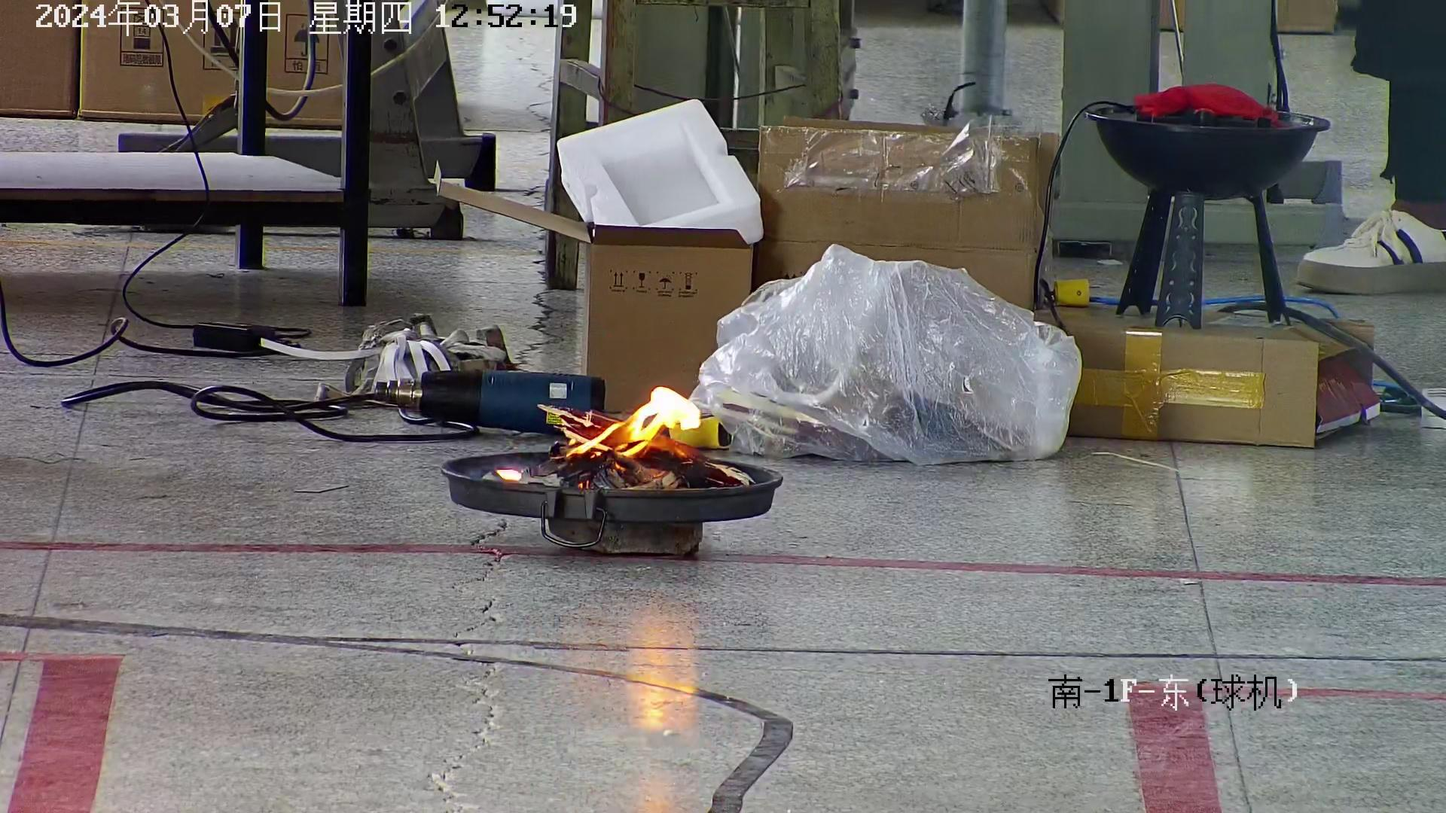fire: (539, 386, 702, 461), (493, 468, 533, 482)
